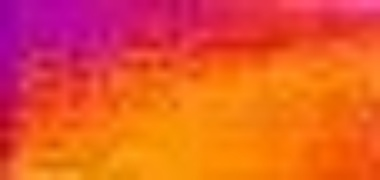Shadow: (1, 1, 168, 100)
